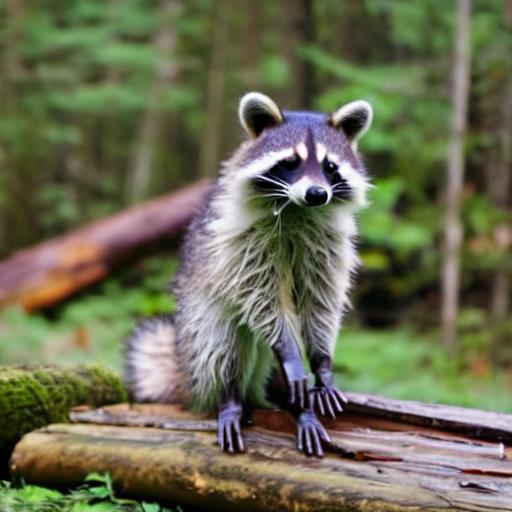raccoon: (122, 82, 385, 402)
